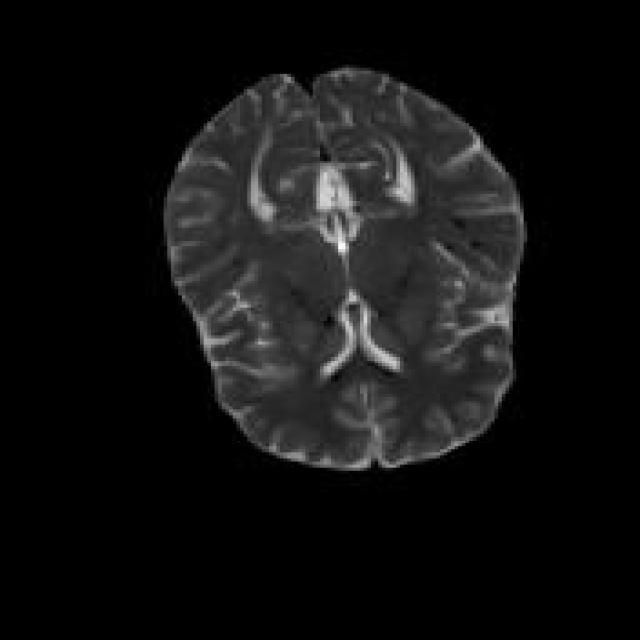CONTROL: (160, 64, 527, 470)
